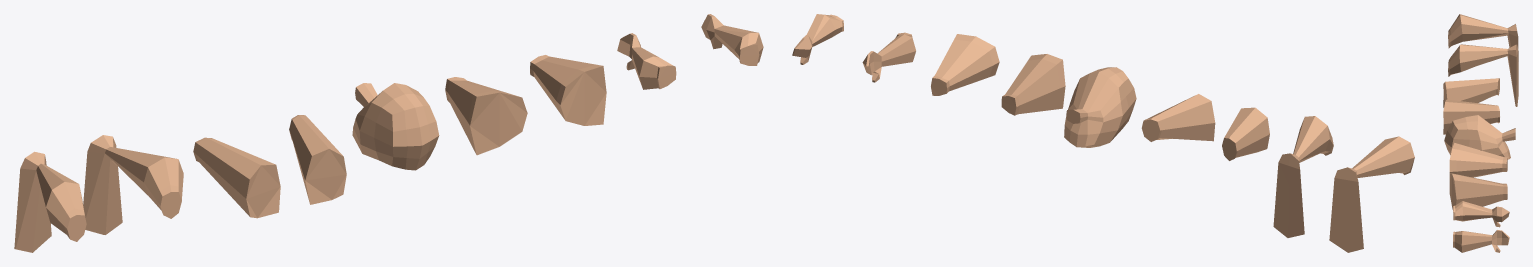
Rendered from JohnDoeRiggedEmPartes.fbx.
The picture shows the model from 3 angles, left to right: view 1: azimuth 30°, elevation 25°; view 2: azimuth 150°, elevation 25°; view 3: azimuth 270°, elevation 25°; orthographic projection. The views are drawn at different scales.
Parts seen in each view (by area): view 1: PernaDir, Cabeca, PernaEsq, CoxaDir, BraçoEsq, BraçoDir, CoxaEsq, AntebraçoEsq, AntebraçoDir; view 2: Cabeca, PernaEsq, PernaDir, BraçoEsq, BraçoDir, CoxaEsq, CoxaDir, AntebraçoEsq, AntebraçoDir; view 3: Cabeca, PernaDir, BraçoDir, BraçoEsq, PernaEsq, CoxaDir, CoxaEsq, AntebraçoDir, AntebraçoEsq.
Part boxes in pixels (bbox=[...]): PernaDir: bbox=[83, 135, 183, 234]; Cabeca: bbox=[352, 83, 439, 170]; PernaEsq: bbox=[14, 151, 86, 252]; CoxaDir: bbox=[193, 137, 280, 218]; BraçoEsq: bbox=[445, 77, 527, 155]; BraçoDir: bbox=[530, 55, 606, 125]; CoxaEsq: bbox=[289, 115, 346, 204]; AntebraçoEsq: bbox=[617, 33, 676, 89]; AntebraçoDir: bbox=[701, 14, 763, 65]; Cabeca: bbox=[1064, 67, 1136, 147]; PernaEsq: bbox=[1329, 136, 1414, 252]; PernaDir: bbox=[1273, 116, 1333, 237]; BraçoEsq: bbox=[1001, 54, 1065, 115]; BraçoDir: bbox=[931, 34, 999, 95]; CoxaEsq: bbox=[1141, 94, 1215, 141]; CoxaDir: bbox=[1222, 107, 1269, 160]; AntebraçoEsq: bbox=[862, 32, 915, 82]; AntebraçoDir: bbox=[792, 14, 843, 64]; Cabeca: bbox=[1444, 114, 1515, 159]; PernaDir: bbox=[1448, 44, 1518, 106]; BraçoDir: bbox=[1449, 173, 1507, 210]; BraçoEsq: bbox=[1449, 143, 1507, 177]; PernaEsq: bbox=[1448, 14, 1518, 61]; CoxaDir: bbox=[1443, 78, 1499, 107]; CoxaEsq: bbox=[1443, 99, 1499, 134]; AntebraçoDir: bbox=[1453, 230, 1509, 252]; AntebraçoEsq: bbox=[1453, 201, 1509, 227].
Size of the model in its own units: 171 by 25.59 by 25.55.
